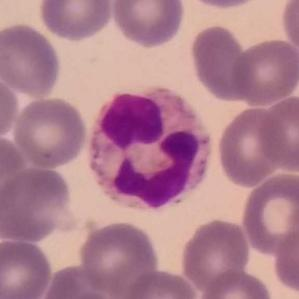Neutrophil: (81, 80, 218, 217)
RBC: (76, 218, 161, 296), (215, 104, 285, 189), (11, 95, 89, 170), (0, 164, 74, 243), (178, 216, 252, 294), (187, 22, 254, 104), (239, 170, 299, 257), (0, 20, 64, 99), (229, 36, 299, 107), (108, 0, 188, 50), (255, 92, 299, 174), (0, 236, 54, 299), (36, 0, 115, 43), (38, 261, 123, 299), (119, 267, 201, 299), (196, 267, 276, 299), (0, 133, 28, 218), (271, 222, 299, 297), (0, 71, 21, 144), (278, 0, 298, 57), (43, 289, 128, 299), (182, 0, 267, 10)
